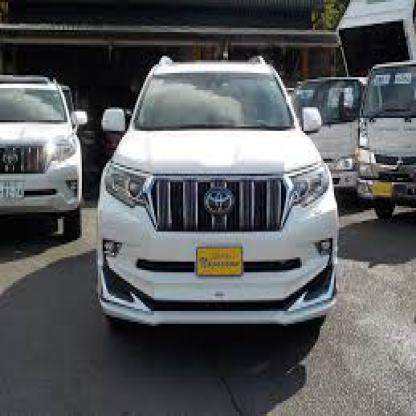jeep: (93, 53, 341, 338), (0, 70, 89, 243)
lorry: (355, 54, 414, 232), (294, 77, 368, 195)
